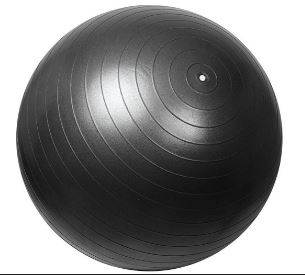Dead: (6, 5, 294, 275)
